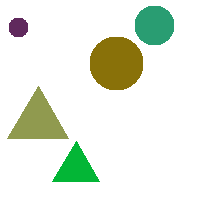circle: (90, 37, 142, 89), (135, 6, 173, 44), (9, 18, 27, 36)
triangle: (7, 86, 68, 138), (52, 141, 99, 181)
